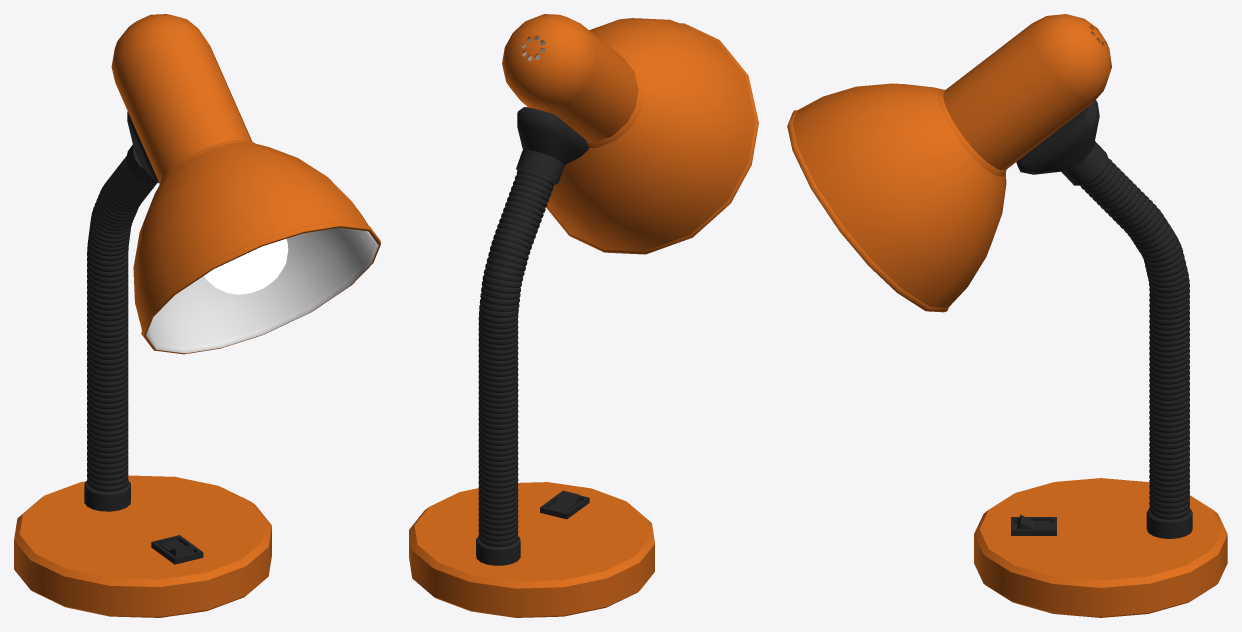
The model's file is simple_low_poly_table_lamp.glb.
The picture shows the model from 3 angles, left to right: view 1: azimuth 30°, elevation 25°; view 2: azimuth 150°, elevation 25°; view 3: azimuth 270°, elevation 25°; orthographic projection. The views are drawn at different scales.
Visible parts, largest first — view 1: lamp, lamp_light; view 2: lamp; view 3: lamp.
Boxes of the visible parts, bbox=[...] form: lamp: bbox=[14, 14, 380, 617]; lamp_light: bbox=[204, 238, 288, 294]; lamp: bbox=[409, 14, 758, 617]; lamp: bbox=[787, 14, 1227, 617].
Bounding box in the file's own units: 396 × 942 × 687.
